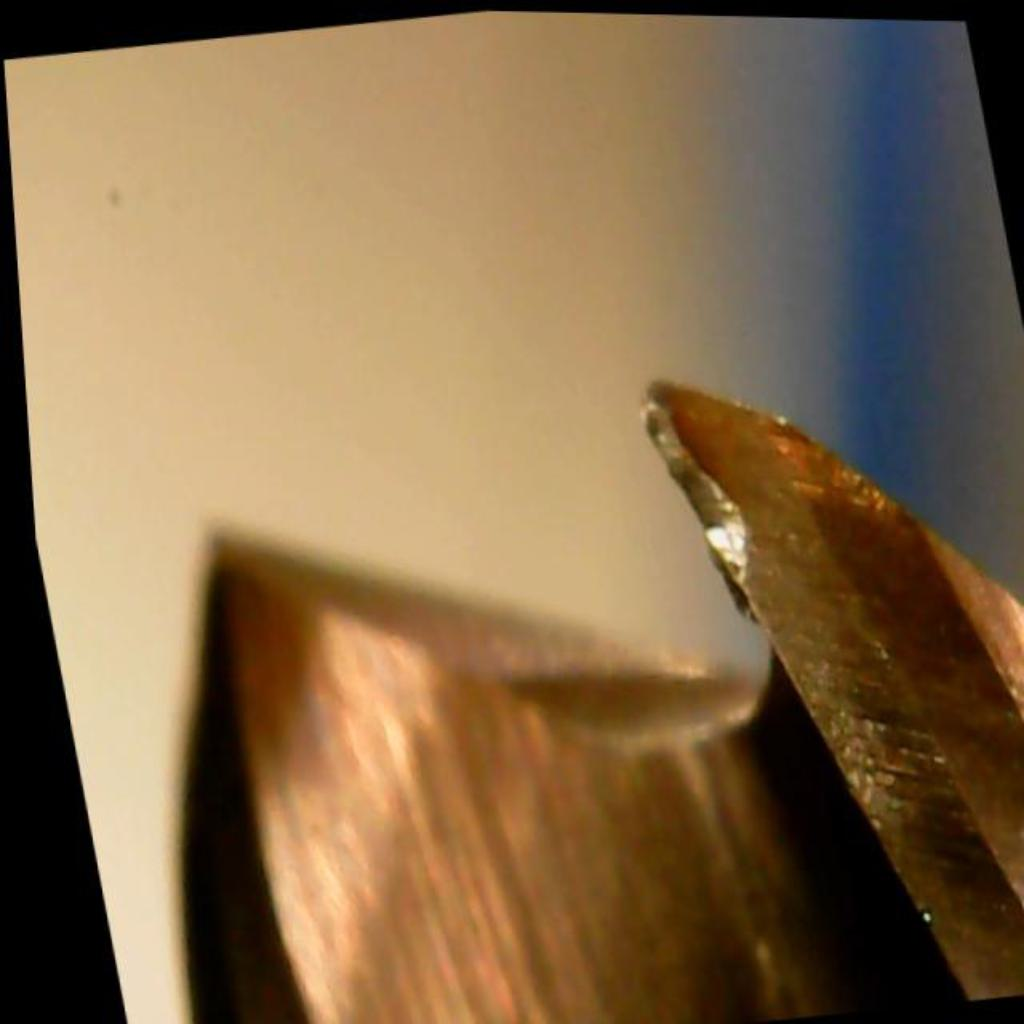Tool-wear-class-1: (578, 332, 910, 802)
